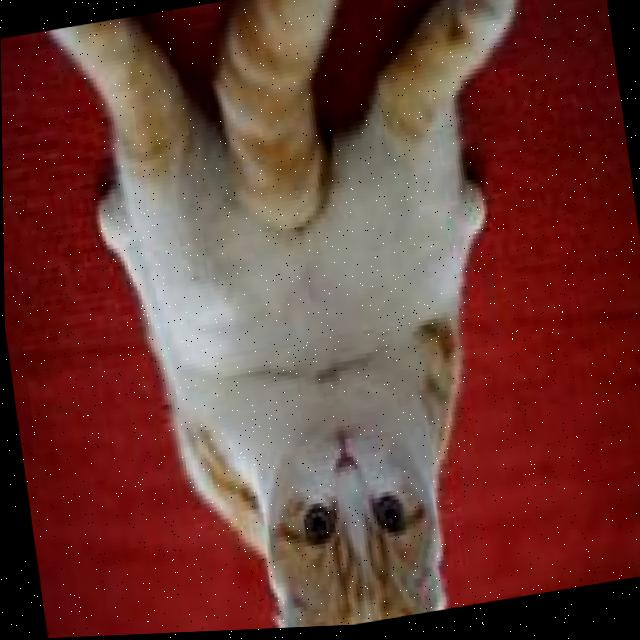Scottish Fold: (35, 0, 599, 639)
